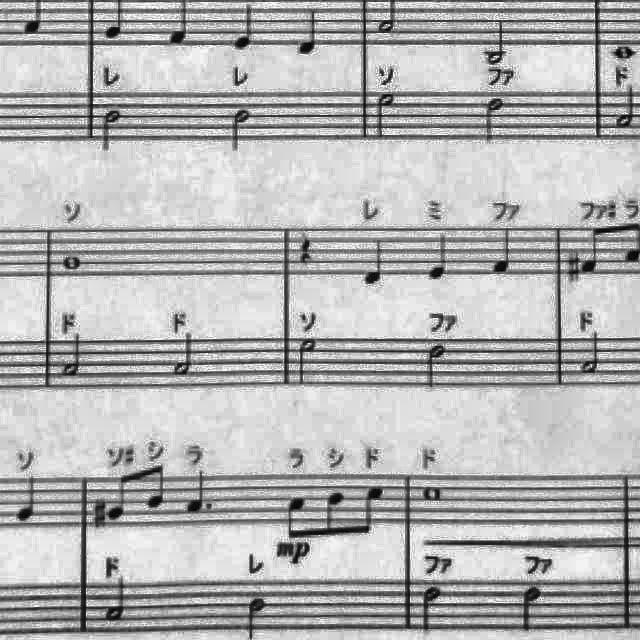Diez: (90, 498, 110, 534), (562, 248, 582, 284)
Eighth-note: (359, 483, 387, 541), (578, 222, 606, 278), (320, 486, 348, 540), (282, 491, 310, 542), (105, 471, 131, 525), (143, 462, 169, 514)
Full-note: (58, 250, 88, 274), (610, 41, 640, 64), (419, 482, 446, 506)
Half-note: (99, 574, 131, 626), (292, 334, 321, 390), (417, 581, 447, 635), (169, 328, 199, 380), (481, 15, 511, 66), (518, 582, 546, 636), (59, 330, 89, 380), (228, 104, 256, 156), (422, 338, 450, 390), (100, 104, 128, 156), (612, 79, 640, 129), (576, 329, 604, 379), (370, 88, 396, 140), (483, 96, 509, 148)
Quarter-dot: (181, 466, 219, 518)
Quarter-note: (361, 234, 391, 290), (423, 230, 453, 286), (12, 472, 44, 524), (232, 2, 260, 54), (488, 224, 516, 276), (295, 6, 323, 58)
Quarter-rest: (294, 227, 322, 269)
